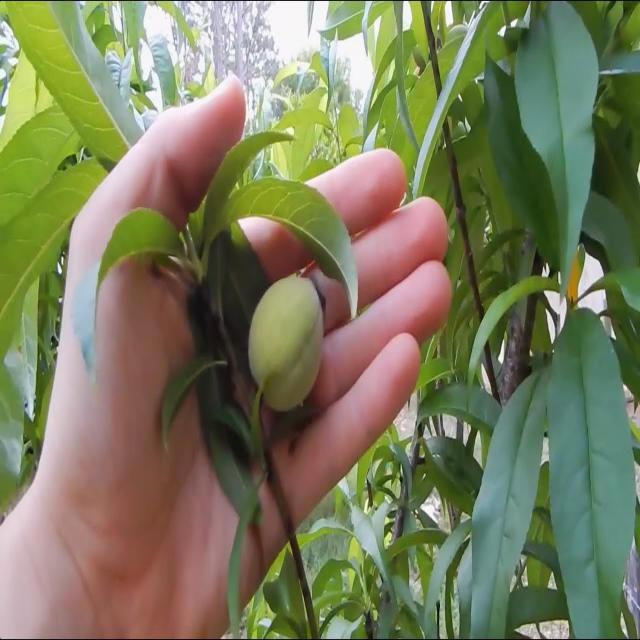Peach: (534, 289, 640, 640)
